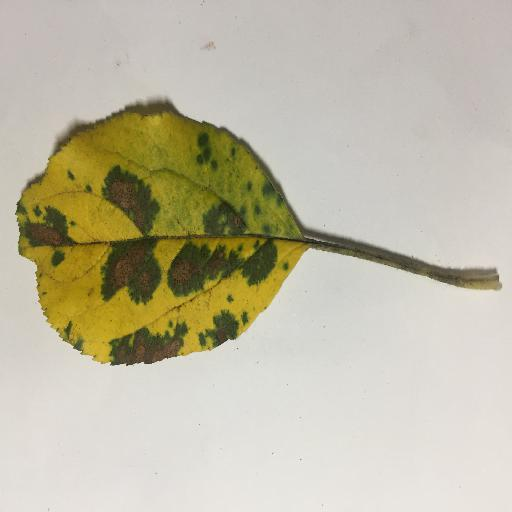Brown_Spot: (105, 241, 155, 293), (111, 179, 145, 227), (171, 257, 231, 279), (112, 342, 178, 361), (21, 225, 67, 244), (226, 215, 244, 237), (216, 330, 228, 344)
